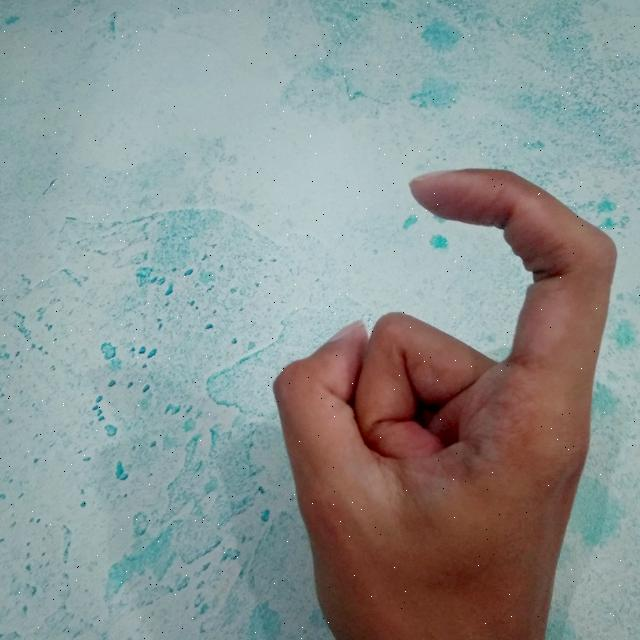X: (258, 160, 640, 640)
